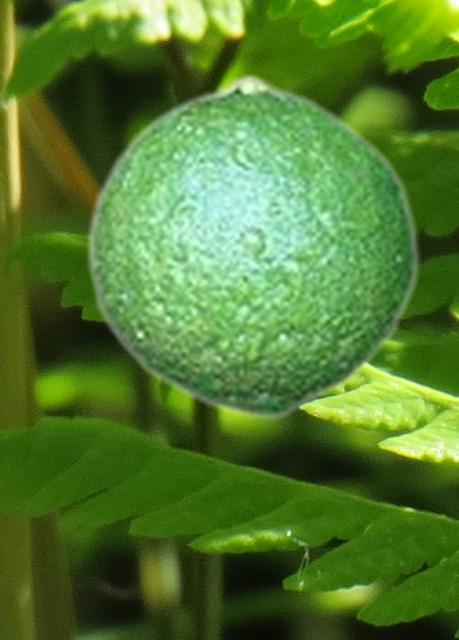dalandan: (83, 72, 420, 420)
